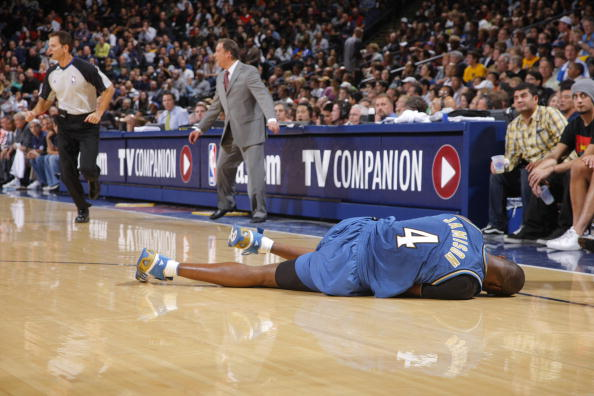10+: (1, 1, 594, 309)
down: (133, 207, 527, 307)
